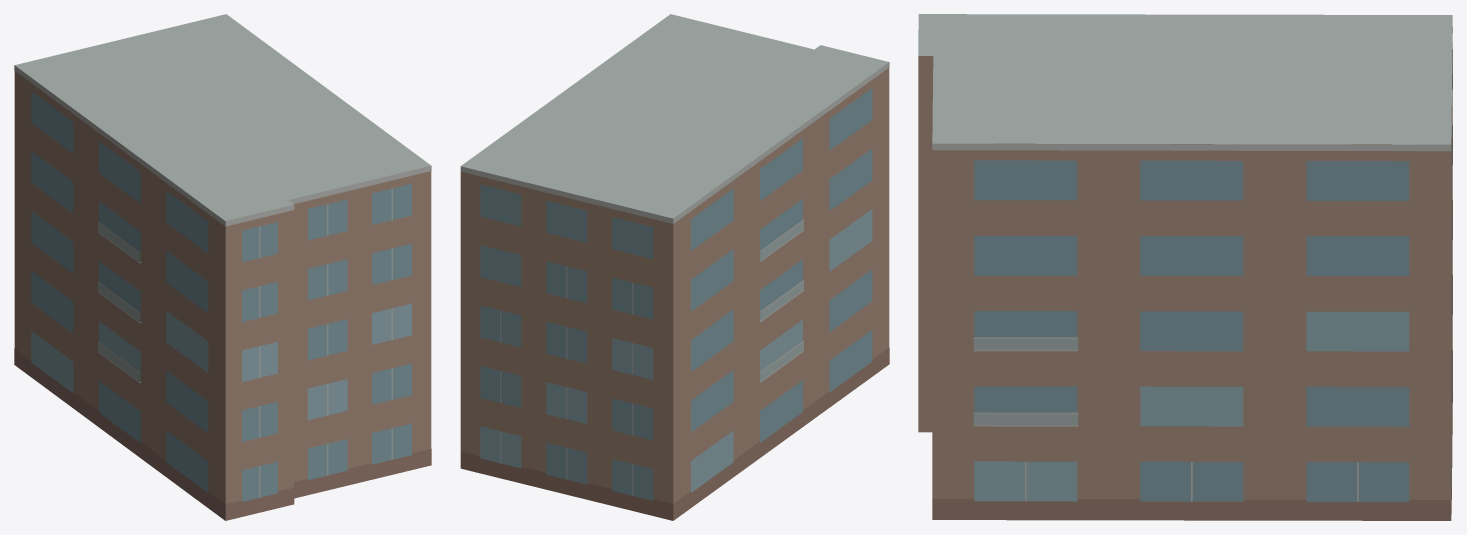
File: survey-upis-32610838.glb
3 renders of one model, left to right at view 1: azimuth 30°, elevation 25°; view 2: azimuth 150°, elevation 25°; view 3: azimuth 270°, elevation 25°, orthographic. The views are drawn at different scales.
Parts seen in each view (by area): view 1: survey-upis-32610838.tmp; view 2: survey-upis-32610838.tmp; view 3: survey-upis-32610838.tmp.
Part boxes in pixels (x1,y1,x2,y2): survey-upis-32610838.tmp: [14, 14, 431, 520]; survey-upis-32610838.tmp: [460, 14, 889, 520]; survey-upis-32610838.tmp: [918, 14, 1452, 520].
Bounding box in the file's own units: 10.28 × 13.8 × 17.78.
